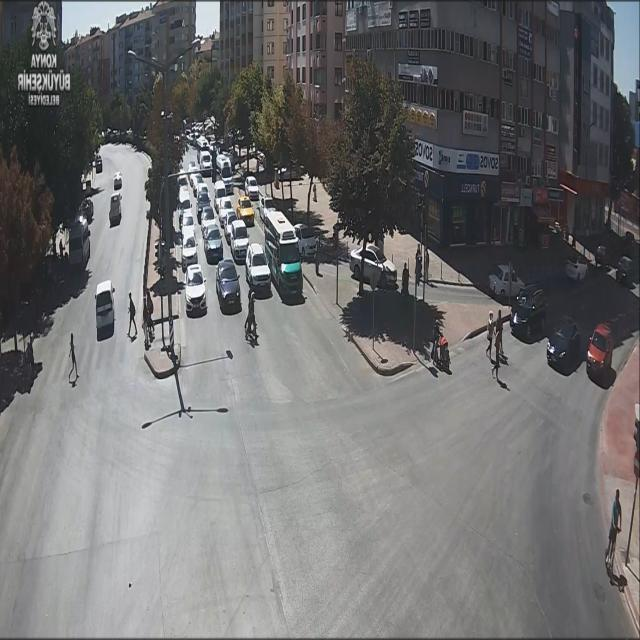Bus: (263, 211, 303, 300), (66, 216, 92, 268), (216, 153, 236, 193)
Car: (509, 285, 550, 340), (351, 243, 398, 289), (546, 316, 581, 366), (214, 258, 242, 312), (585, 323, 614, 374), (488, 264, 526, 300), (244, 241, 270, 291), (184, 264, 207, 314), (291, 221, 319, 260), (178, 227, 200, 268), (202, 223, 224, 263), (231, 220, 251, 262), (563, 257, 590, 280), (236, 196, 256, 227), (222, 210, 239, 243), (218, 196, 234, 224), (199, 206, 219, 228), (244, 175, 261, 200), (259, 196, 275, 222), (179, 212, 196, 232), (195, 192, 212, 212), (113, 172, 122, 190)
Van: (94, 280, 117, 332), (198, 150, 213, 177)
